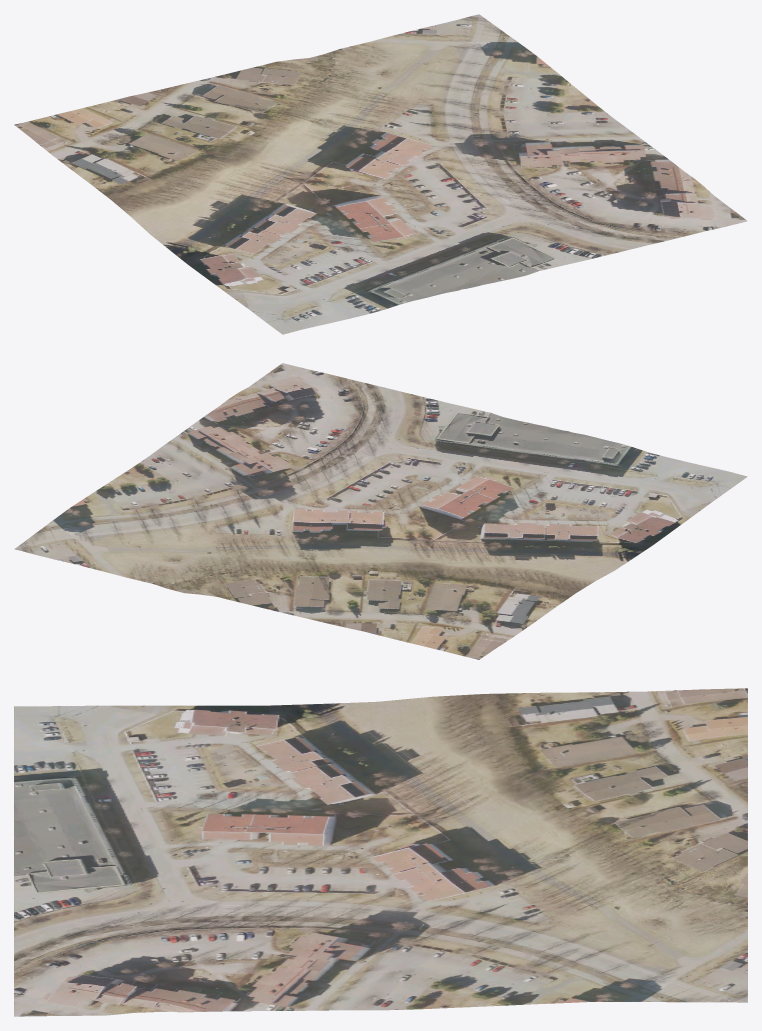
Rendered from CM_Terrain_24491482_6819999.fbx.
The picture shows the model from 3 angles, top to bottom: view 1: azimuth 30°, elevation 25°; view 2: azimuth 150°, elevation 25°; view 3: azimuth 270°, elevation 25°; orthographic projection. The views are drawn at different scales.
Parts seen in each view (by area): view 1: CM_Terrain_24491482_6819999_LOD0; view 2: CM_Terrain_24491482_6819999_LOD0; view 3: CM_Terrain_24491482_6819999_LOD0.
Boxes of the visible parts, <box> form: CM_Terrain_24491482_6819999_LOD0: <box>14,14,747,334</box>; CM_Terrain_24491482_6819999_LOD0: <box>14,363,747,659</box>; CM_Terrain_24491482_6819999_LOD0: <box>14,688,747,1016</box>.
Size of what is drawn, in the model's own units: 205 by 5.84 by 205.
